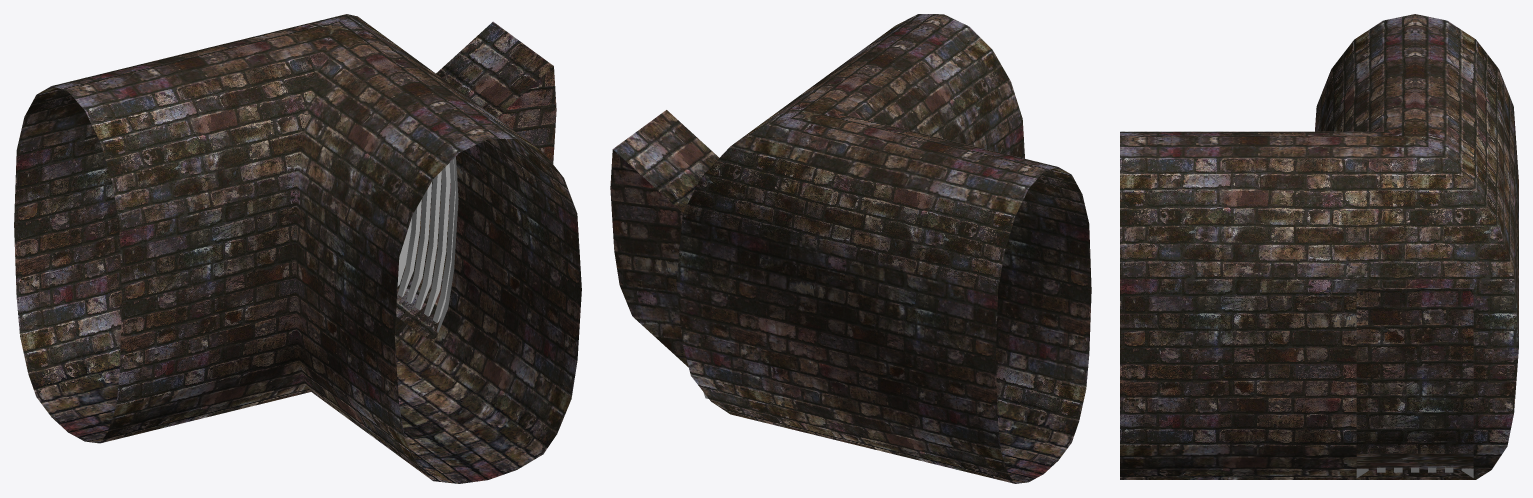
The model's file is wall_tunnel_right.DAE.
3 views of the same model, side by side, from view 1: azimuth 30°, elevation 25°; view 2: azimuth 150°, elevation 25°; view 3: azimuth 270°, elevation 25° (orthographic). The views are drawn at different scales.
Parts seen in each view (by area): view 1: wall_tunnel_corner_right, grate; view 2: wall_tunnel_corner_right; view 3: wall_tunnel_corner_right, grate.
Boxes of the visible parts, x1,y1,x2,y2 form: wall_tunnel_corner_right: [14, 14, 581, 483]; grate: [397, 157, 458, 332]; wall_tunnel_corner_right: [610, 14, 1091, 483]; wall_tunnel_corner_right: [1120, 14, 1518, 479]; grate: [1356, 467, 1473, 477].
Bounding box in the file's own units: 3.44 × 2.45 × 2.7.
